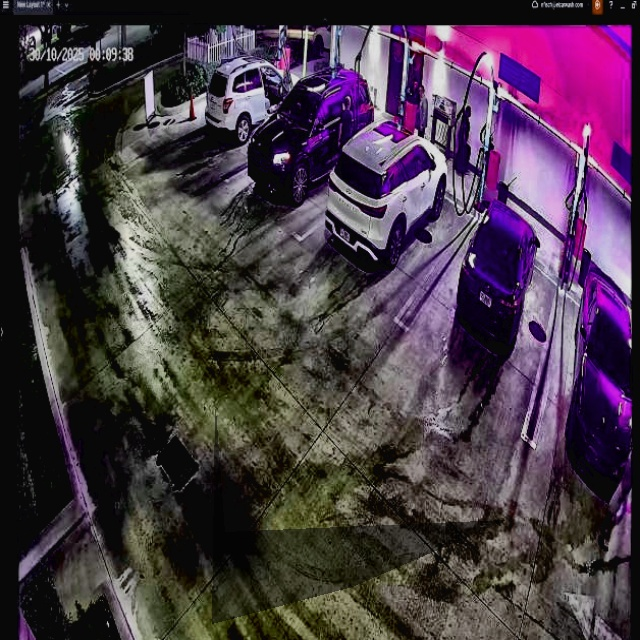Car: (328, 120, 445, 272), (253, 69, 373, 196), (460, 200, 538, 351)
